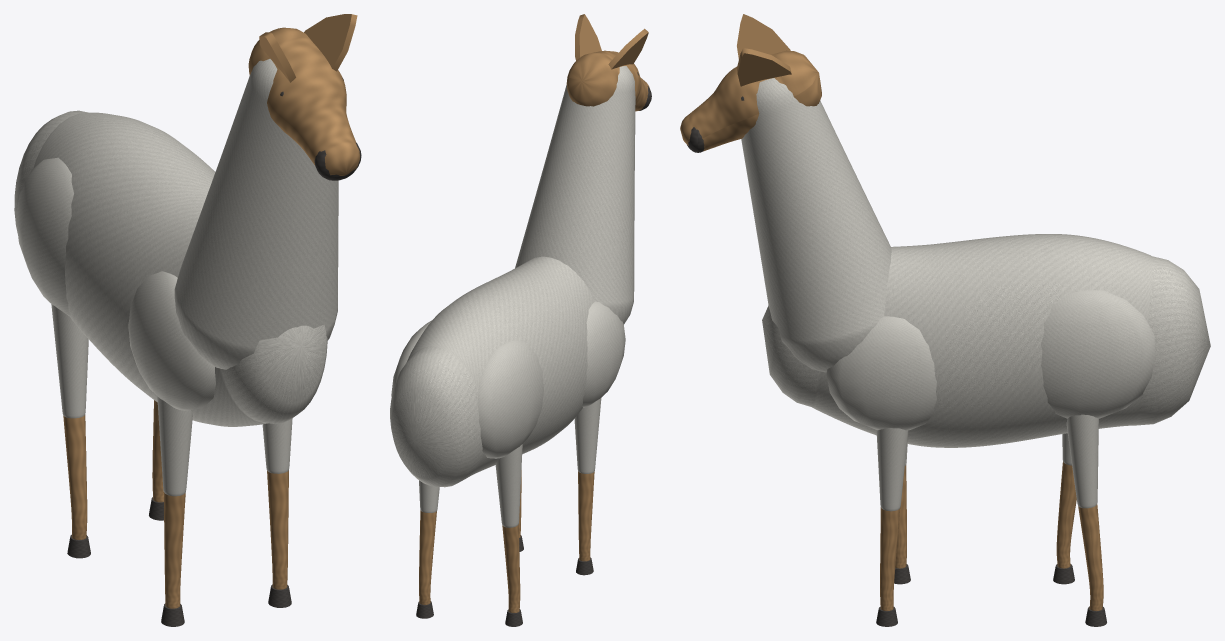
Rendered from farm-and-working-animals-hd-alpaca-892a0e39__29196.glb.
3 views of the same model, side by side, from view 1: azimuth 30°, elevation 25°; view 2: azimuth 150°, elevation 25°; view 3: azimuth 270°, elevation 25° (orthographic). The views are drawn at different scales.
Parts seen in each view (by area): view 1: alpaca; view 2: alpaca; view 3: alpaca.
Part boxes in pixels (x1,y1,x2,y2): alpaca: [14, 14, 361, 626]; alpaca: [390, 14, 651, 626]; alpaca: [680, 14, 1210, 626].
Size of the model in its own units: 0.4105 by 1.56 by 1.32.
Materials: 3 (3 with a texture image).
